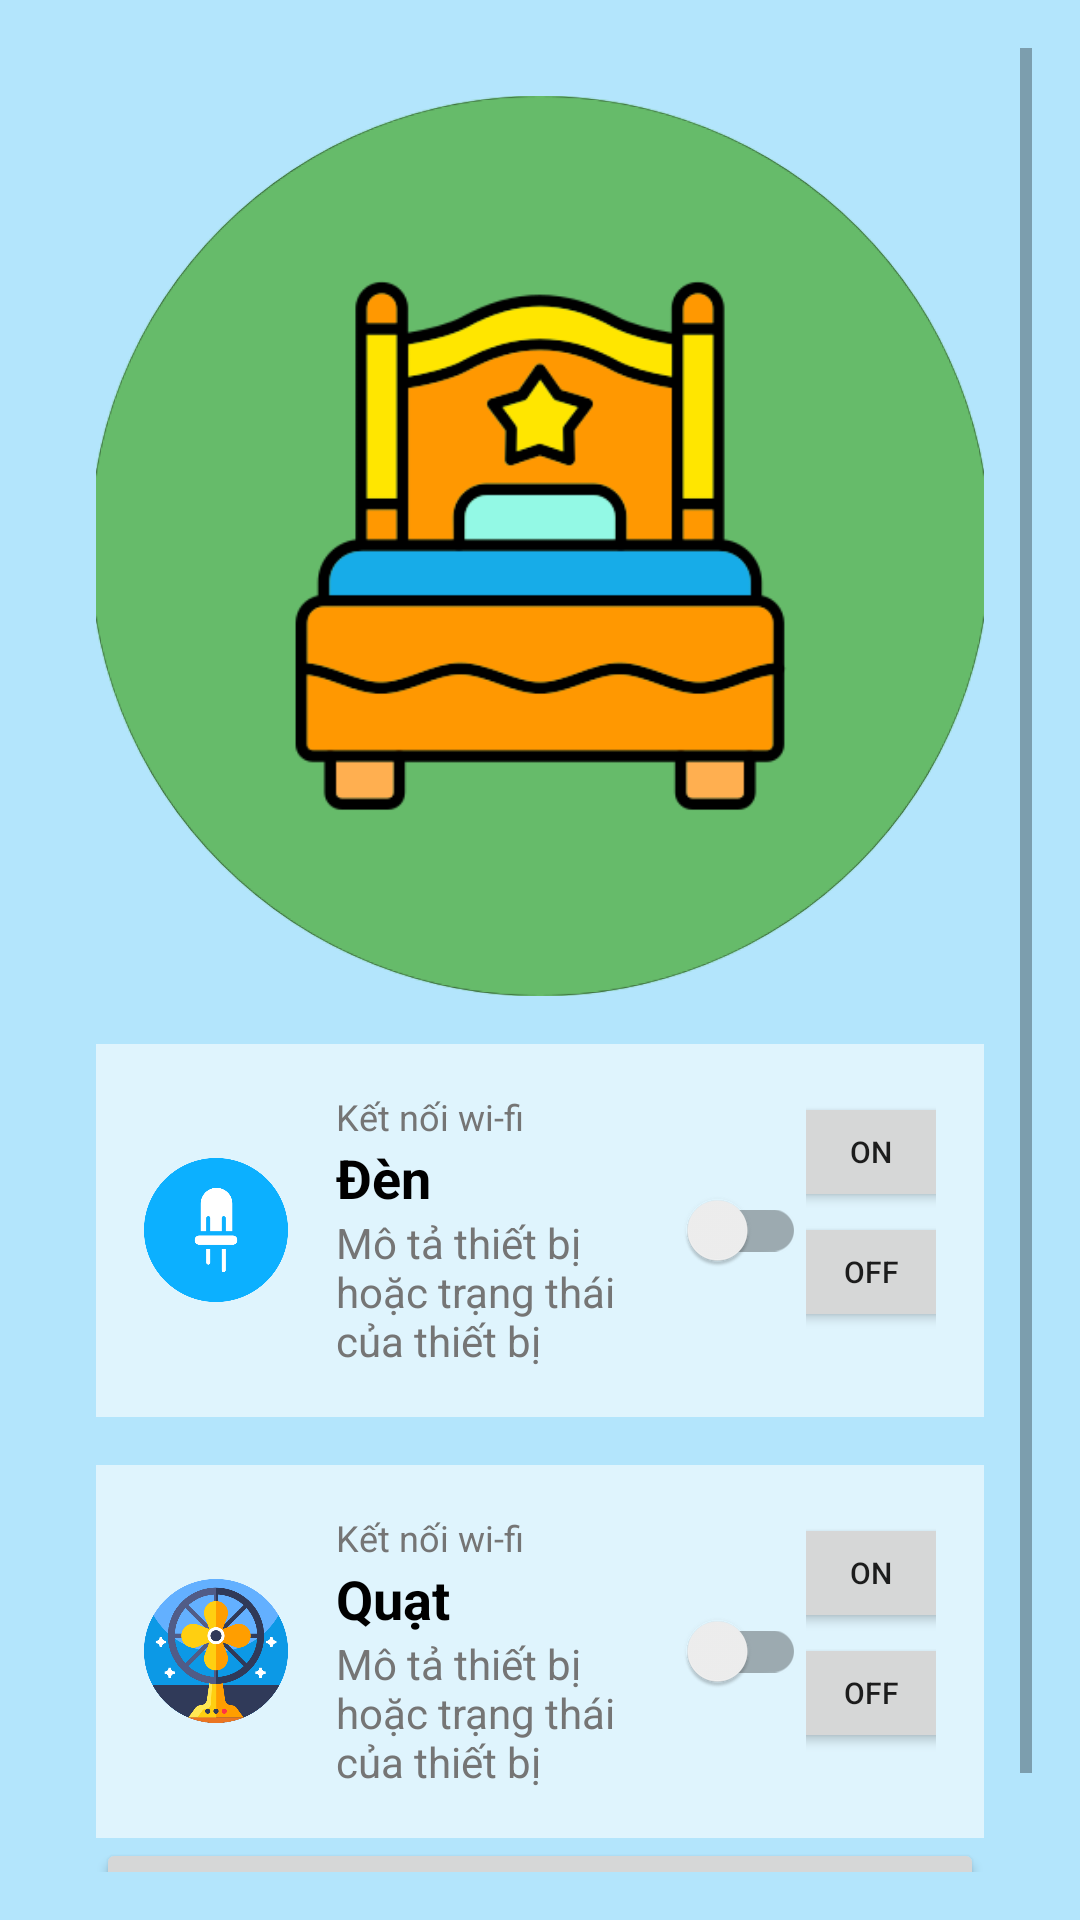

Icon click points for this 1080*1920 phone screenshot, format point (x, y):
fan: point (216, 1651)
led: point (216, 1230)
